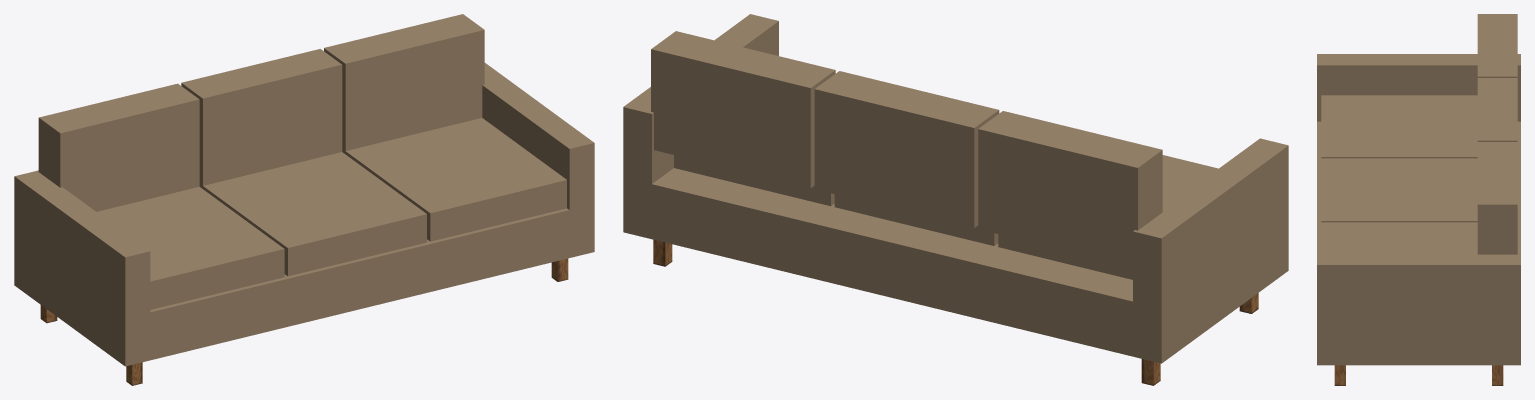
The model's file is Kanape_3_szemelyes.obj.
3 renders of one model, left to right at view 1: azimuth 30°, elevation 25°; view 2: azimuth 150°, elevation 25°; view 3: azimuth 270°, elevation 25°, orthographic. The views are drawn at different scales.
Bounding box in the file's own units: 2.25 × 0.89 × 0.92.
Materials: 2 (1 with a texture image).
